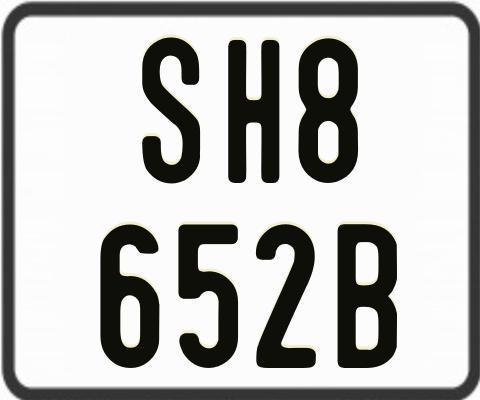2: (255, 222, 319, 368)
5: (175, 223, 236, 367)
6: (99, 221, 158, 366)
8: (298, 37, 358, 182)
B: (336, 224, 399, 372)
H: (227, 39, 282, 186)
S: (139, 37, 197, 187)
